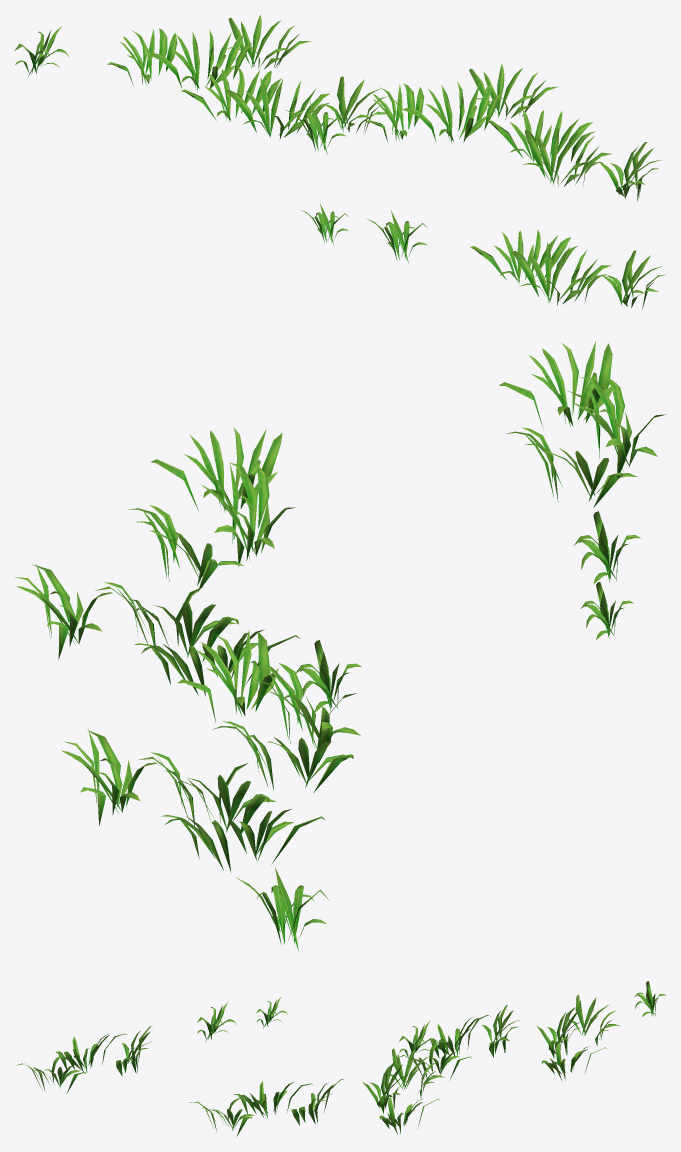
File: cao_fenzu04.fbx
The picture shows the model from 3 angles, top to bottom: view 1: azimuth 30°, elevation 25°; view 2: azimuth 150°, elevation 25°; view 3: azimuth 270°, elevation 25°; orthographic projection. The views are drawn at different scales.
Parts seen in each view (by area): view 1: cao_06__83_; view 2: cao_06__83_; view 3: cao_06__83_.
Part boxes in pixels (x1,y1,x2,y2): cao_06__83_: (14, 15, 665, 309); cao_06__83_: (15, 341, 666, 951); cao_06__83_: (16, 981, 665, 1136).
Size of the model in its own units: 803 by 114 by 1575.
